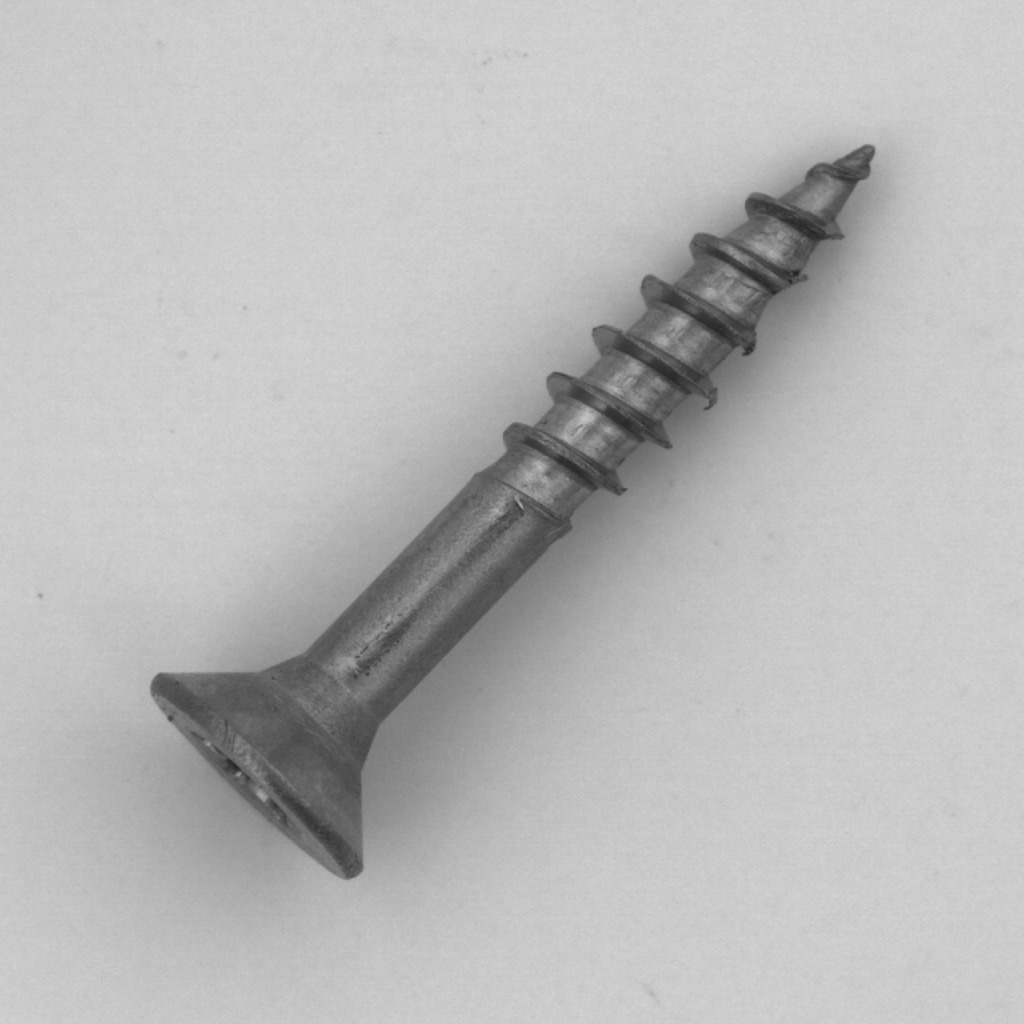manipulated_front: (713, 66, 862, 232)
